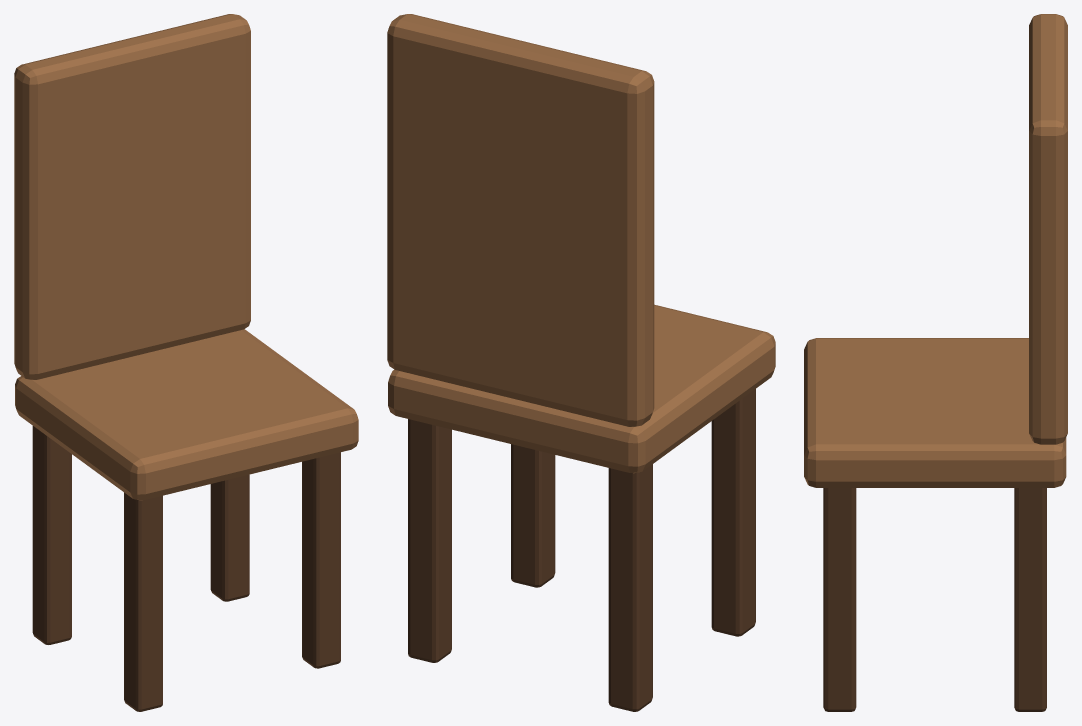
The model's file is chair_wooden.glb.
3 views of the same model, side by side, from view 1: azimuth 30°, elevation 25°; view 2: azimuth 150°, elevation 25°; view 3: azimuth 270°, elevation 25° (orthographic). The views are drawn at different scales.
Visible parts, largest first — view 1: chair_wooden; view 2: chair_wooden; view 3: chair_wooden.
Boxes of the visible parts, x1,y1,x2,y2 form: chair_wooden: (14,14,358,711); chair_wooden: (387,14,775,711); chair_wooden: (804,14,1067,711).
Size of the model in its own units: 0.46 by 1.1 by 0.4425.
